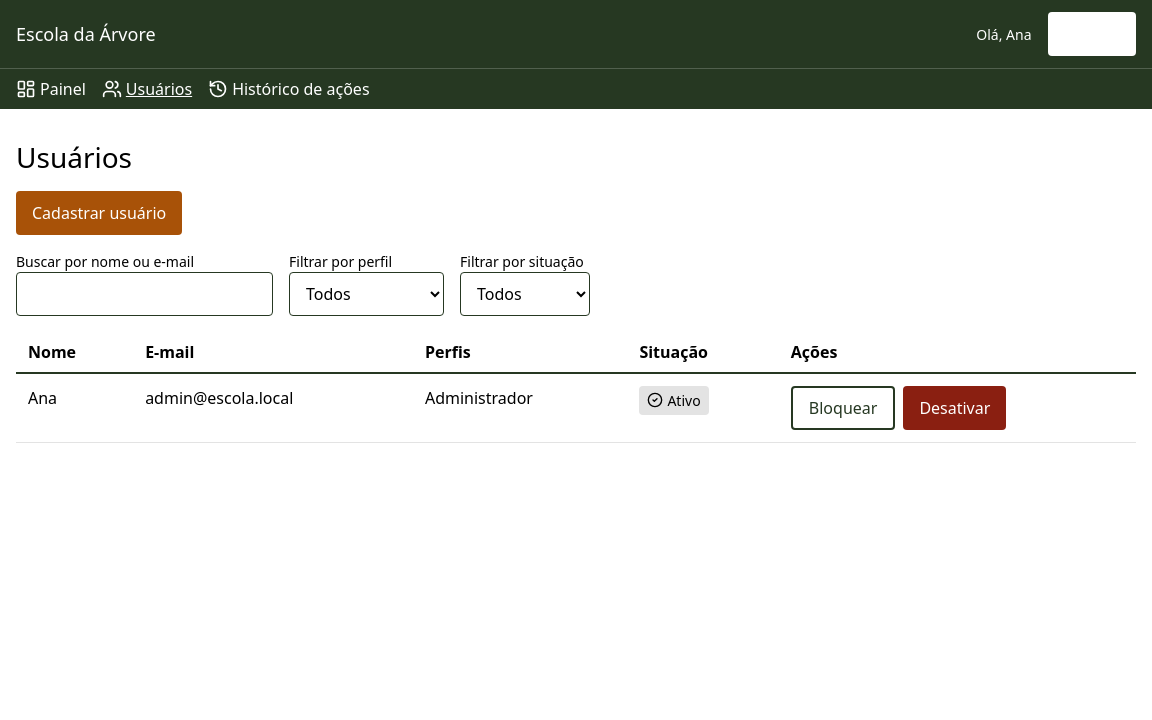
Test: US5 — proteção do último administrador › bloquear o único administrador ativo é recusado, inclusive contra si mesmo
The width and height of the screenshot is (1152, 720).
Expected: the text "Ana" is shown, left=16, top=373, right=133, bottom=442
Click the button "Bloquear" at [843, 408], box left=791, top=386, right=895, bottom=430
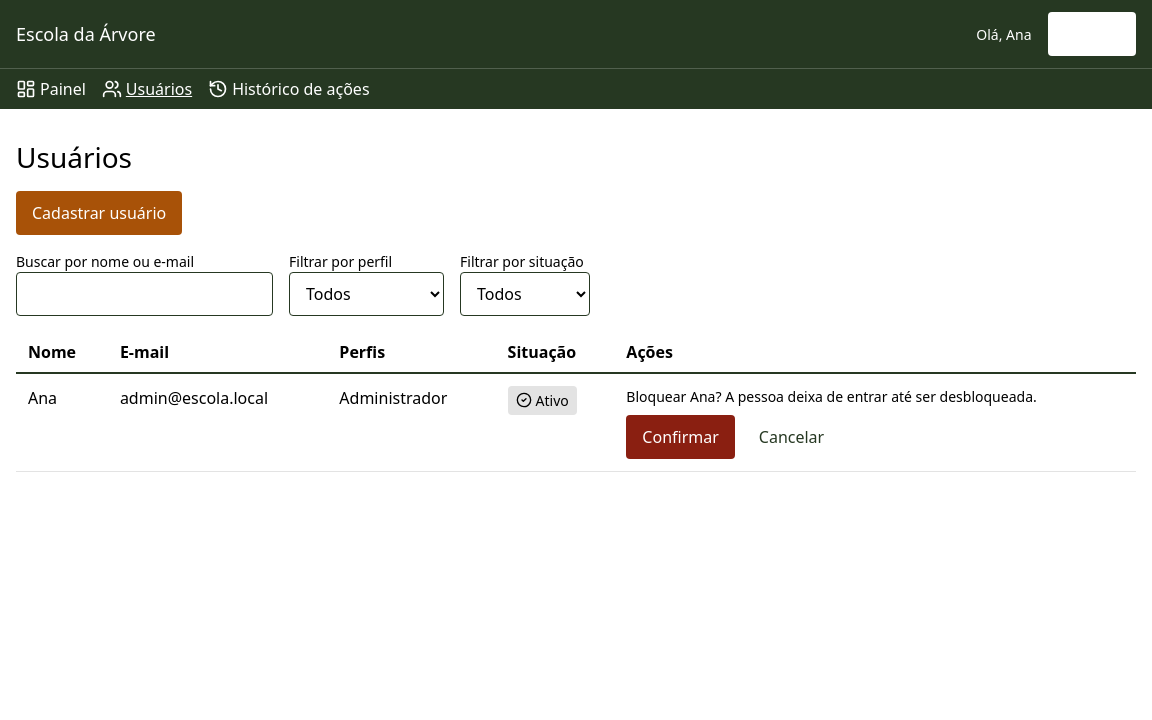
Click the button "Confirmar" at [681, 437], box left=626, top=415, right=735, bottom=459
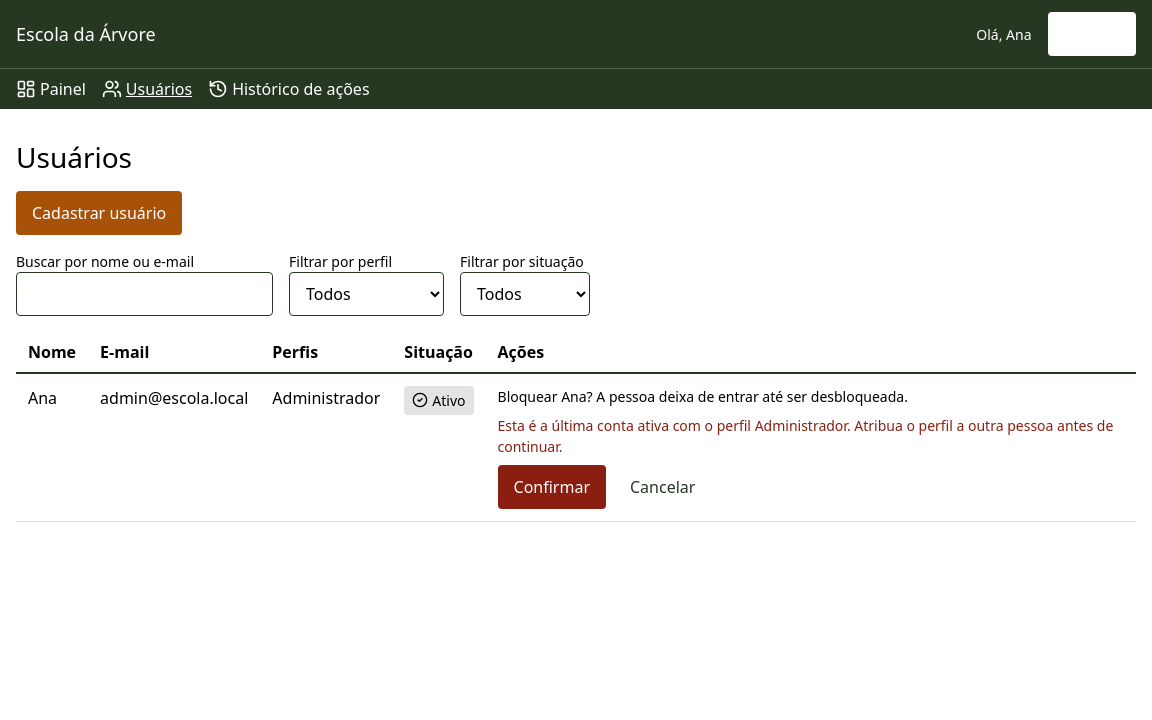
Expected: the text "Ativo" is shown, left=404, top=386, right=474, bottom=415
Now the text "Esta é a última conta ativa com o perfil Administrador. Atribua o perfil a outra pessoa antes de continuar." is shown, box left=498, top=416, right=1113, bottom=456
